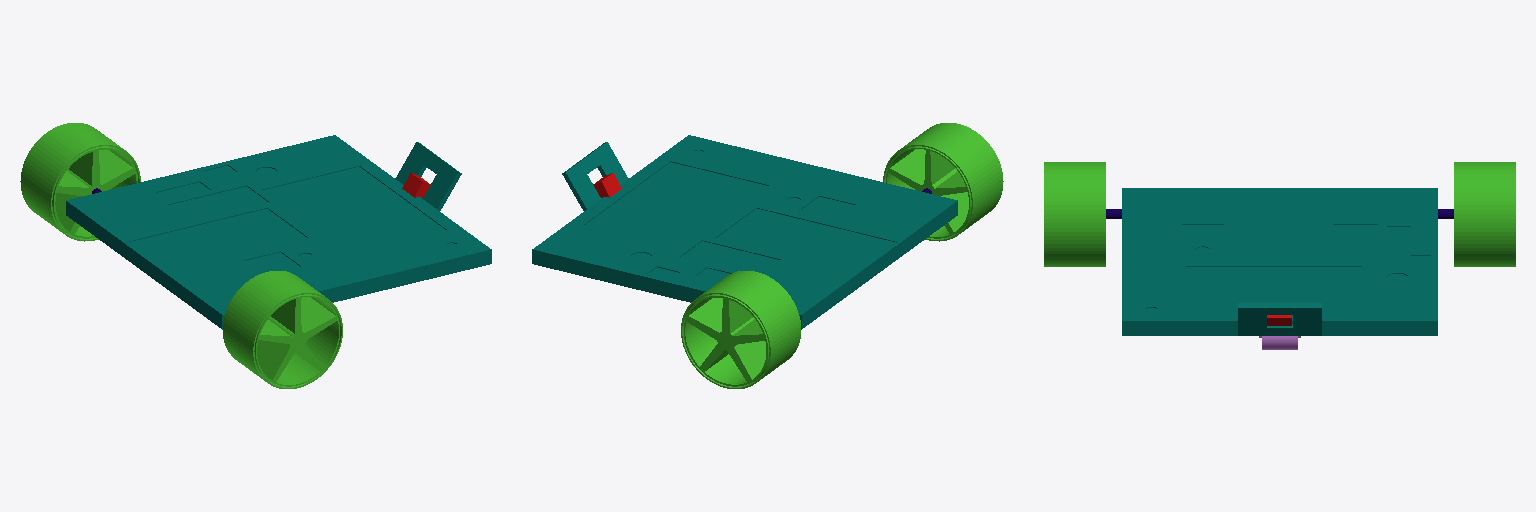
robot.urdf — line_follower:
<?xml version="1.0" ?>
<!-- Generated using onshape-to-robot -->
<!-- Onshape https://cad.onshape.com/documents/dbc31585e048a810d4607e82/w/ba39b9f93a764fe86dcb2c60/e/6d6f58baa376b2fbae51b43c -->
<robot name="line_follower">
  <!-- Link flat_chasis -->
  <link name="flat_chasis">
    <inertial>
      <origin xyz="-0.02 0.00176509 -0.0277359" rpy="0 0 0"/>
      <mass value="0.181593"/>
      <inertia ixx="0.000325771" ixy="-8.0742e-07" ixz="-5.59453e-07" iyy="0.000334742" iyz="1.95819e-07" izz="0.000656154"/>
    </inertial>
    <!-- Part caster_wheel -->
    <visual>
      <origin xyz="0.0587074 0.0031733 -0.042867" rpy="0 -0 -1.5708"/>
      <geometry>
        <mesh filename="package://linebot_description/meshes/caster_wheel.stl"/>
      </geometry>
      <material name="caster_wheel_material">
        <color rgba="0.835294 0.552941 0.933333 1"/>
      </material>
    </visual>
    <collision>
      <origin xyz="0.0587074 0.0031733 -0.042867" rpy="0 -0 -1.5708"/>
      <geometry>
        <mesh filename="package://linebot_description/meshes/caster_wheel.stl"/>
      </geometry>
    </collision>
    <!-- Part flat_chasis -->
    <visual>
      <origin xyz="0.00561429 5.979e-05 -0.031367" rpy="0 -0 0"/>
      <geometry>
        <mesh filename="package://linebot_description/meshes/flat_chasis.stl"/>
      </geometry>
      <material name="flat_chasis_material">
        <color rgba="0.0470588 0.470588 0.435294 1"/>
      </material>
    </visual>
    <collision>
      <origin xyz="0.00561429 5.979e-05 -0.031367" rpy="0 -0 0"/>
      <geometry>
        <mesh filename="package://linebot_description/meshes/flat_chasis.stl"/>
      </geometry>
    </collision>
  </link>
  <!-- Link left_axle -->
  <link name="left_axle">
    <inertial>
      <origin xyz="0 -0 -0.0375239" rpy="0 0 0"/>
      <mass value="0.02838"/>
      <inertia ixx="1.72354e-05" ixy="0" ixz="0" iyy="1.72354e-05" iyz="-0" izz="8.55674e-06"/>
    </inertial>
    <!-- Part left_axle -->
    <visual>
      <origin xyz="0 0 -0.045" rpy="1.5708 -0 0"/>
      <geometry>
        <mesh filename="package://linebot_description/meshes/left_axle.stl"/>
      </geometry>
      <material name="left_axle_material">
        <color rgba="0.141176 0.0352941 0.396078 1"/>
      </material>
    </visual>
    <collision>
      <origin xyz="0 0 -0.045" rpy="1.5708 -0 0"/>
      <geometry>
        <mesh filename="package://linebot_description/meshes/left_axle.stl"/>
      </geometry>
    </collision>
    <!-- Part left_wheel -->
    <visual>
      <origin xyz="0 0 -0.045" rpy="1.5708 0 0"/>
      <geometry>
        <mesh filename="package://linebot_description/meshes/left_wheel.stl"/>
      </geometry>
      <material name="left_wheel_material">
        <color rgba="0.313725 0.760784 0.223529 1"/>
      </material>
    </visual>
    <collision><origin xyz="0 0 -0.045" rpy="0 0 0"/><geometry><cylinder radius="0.0255" length="0.03"/></geometry></collision>
  </link>
  <!-- Joint from flat_chasis to left_axle -->
  <joint name="left_wheel" type="continuous">
    <origin xyz="-0.0442753 -0.0510767 -0.027367" rpy="-1.5708 -0 0"/>
    <parent link="flat_chasis"/>
    <child link="left_axle"/>
    <axis xyz="0 0 1"/>
    <limit effort="10" velocity="10"/>
  </joint>
  <!-- Link right_axle -->
  <link name="right_axle">
    <inertial>
      <origin xyz="-0 -0 0.038315" rpy="0 0 0"/>
      <mass value="0.0317382"/>
      <inertia ixx="1.82034e-05" ixy="-0" ixz="0" iyy="1.82034e-05" iyz="0" izz="9.65345e-06"/>
    </inertial>
    <!-- Part right_wheel -->
    <visual>
      <origin xyz="0 0 0.045" rpy="1.5708 -0 0"/>
      <geometry>
        <mesh filename="package://linebot_description/meshes/right_wheel.stl"/>
      </geometry>
      <material name="right_wheel_material">
        <color rgba="0.313725 0.760784 0.223529 1"/>
      </material>
    </visual>
    <collision><origin xyz="0 0 0.045" rpy="0 0 0"/><geometry><cylinder radius="0.0255" length="0.03"/></geometry></collision>
    <!-- Part right_axle -->
    <visual>
      <origin xyz="0 0 0.045" rpy="1.5708 -0 0"/>
      <geometry>
        <mesh filename="package://linebot_description/meshes/right_axle.stl"/>
      </geometry>
      <material name="right_axle_material">
        <color rgba="0.141176 0.0352941 0.396078 1"/>
      </material>
    </visual>
    <collision>
      <origin xyz="0 0 0.045" rpy="1.5708 -0 0"/>
      <geometry>
        <mesh filename="package://linebot_description/meshes/right_axle.stl"/>
      </geometry>
    </collision>
  </link>
  <!-- Joint from flat_chasis to right_axle -->
  <joint name="right_wheel" type="continuous">
    <origin xyz="-0.0442753 0.0574233 -0.027367" rpy="-1.5708 -0 0"/>
    <parent link="flat_chasis"/>
    <child link="right_axle"/>
    <axis xyz="0 0 1"/>
    <limit effort="10" velocity="10"/>
  </joint>
  <!-- Additional plugins.xml -->
  <link name="camera_link">
    <visual>
      <geometry>
        <box size="0.006 0.012 0.009"/>
      </geometry>
      <material name="cam_red">
        <color rgba="0.8 0.1 0.1 1"/>
      </material>
    </visual>
    <inertial>
      <mass value="0.005"/>
      <inertia ixx="1e-6" ixy="0" ixz="0" iyy="1e-6" iyz="0" izz="1e-6"/>
    </inertial>
  </link>
  <joint name="camera_joint" type="fixed">
    <parent link="flat_chasis"/>
    <child link="camera_link"/>
    <origin xyz="0.089 0.003 -0.021" rpy="0 0.55 0"/>
  </joint>
  <gazebo reference="left_axle">
    <mu1>1.0</mu1>
    <mu2>1.0</mu2>
  </gazebo>
  <gazebo reference="right_axle">
    <mu1>1.0</mu1>
    <mu2>1.0</mu2>
  </gazebo>
  <gazebo reference="flat_chasis">
    <mu1>0.0</mu1>
    <mu2>0.0</mu2>
  </gazebo>
  <gazebo reference="camera_link">
    <sensor name="line_camera" type="camera">
      <always_on>true</always_on>
      <update_rate>30</update_rate>
      <visualize>false</visualize>
      <topic>camera/image_raw</topic>
      <camera>
        <horizontal_fov>2.094</horizontal_fov>
        <image>
          <width>320</width>
          <height>240</height>
          <format>R8G8B8</format>
        </image>
        <clip>
          <near>0.01</near>
          <far>5.0</far>
        </clip>
      </camera>
    </sensor>
  </gazebo>
  <gazebo>
    <plugin filename="gz-sim-diff-drive-system" name="gz::sim::systems::DiffDrive">
      <left_joint>right_wheel</left_joint>
      <right_joint>left_wheel</right_joint>
      <wheel_separation>0.1985</wheel_separation>
      <wheel_radius>0.0255</wheel_radius>
      <odom_publish_frequency>30</odom_publish_frequency>
      <topic>cmd_vel</topic>
      <odom_topic>odom</odom_topic>
      <tf_topic>tf</tf_topic>
      <frame_id>odom</frame_id>
      <child_frame_id>flat_chasis</child_frame_id>
      <max_linear_velocity>1.0</max_linear_velocity>
      <min_linear_velocity>-1.0</min_linear_velocity>
      <max_angular_velocity>4.0</max_angular_velocity>
      <min_angular_velocity>-4.0</min_angular_velocity>
    </plugin>
    <plugin filename="gz-sim-joint-state-publisher-system" name="gz::sim::systems::JointStatePublisher">
      <topic>joint_states</topic>
    </plugin>
  </gazebo>
</robot>

--- Render facts (derived) ---
The picture shows the robot from 3 angles, left to right: view 1: azimuth 30°, elevation 25°; view 2: azimuth 150°, elevation 25°; view 3: azimuth 270°, elevation 25°; orthographic projection.
Robot: line_follower — 4 links, 3 joints (2 continuous, 1 fixed); root link flat_chasis; default pose: all joints at 0.
Links seen in each view (by area): view 1: flat_chasis, left_axle, right_axle; view 2: flat_chasis, right_axle, left_axle; view 3: flat_chasis, left_axle, right_axle.
Boxes of the visible links, left/top/right/bottom form: flat_chasis: left=66, top=135, right=491, bottom=329; left_axle: left=223, top=271, right=342, bottom=388; right_axle: left=20, top=123, right=140, bottom=241; flat_chasis: left=532, top=135, right=957, bottom=329; right_axle: left=681, top=271, right=800, bottom=388; left_axle: left=883, top=123, right=1003, bottom=241; flat_chasis: left=1122, top=188, right=1437, bottom=349; left_axle: left=1044, top=162, right=1121, bottom=266; right_axle: left=1438, top=162, right=1515, bottom=266.
Size in the robot's own frame: 0.1725 by 0.2285 by 0.051 metres.
Meshes: 6 distinct files referenced, 6 mesh visuals loaded (6 binary STL).
